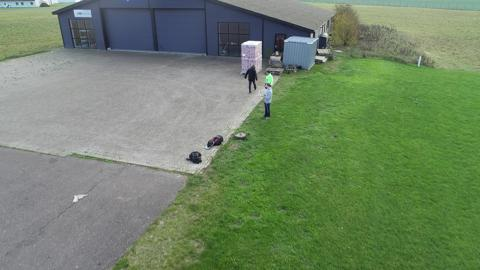RockwoolPallet: (239, 40, 264, 75)
